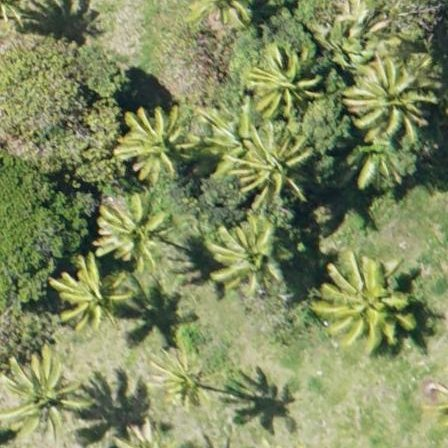palm_tree: (322, 251, 412, 347), (94, 191, 175, 269), (212, 214, 289, 295), (353, 55, 429, 136), (145, 344, 221, 425), (118, 105, 189, 181), (5, 359, 75, 433), (59, 265, 119, 330), (241, 130, 301, 194), (255, 53, 314, 115), (187, 1, 251, 26), (446, 110, 448, 134)
